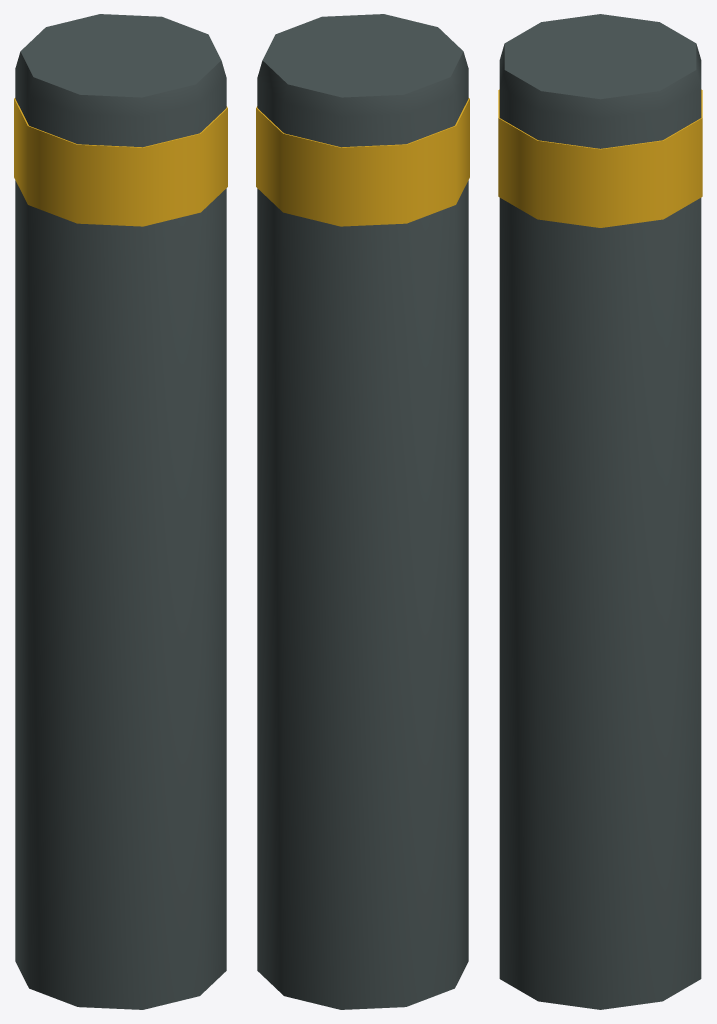
The model's file is sg-bollard.glb.
3 renders of one model, left to right at view 1: azimuth 30°, elevation 25°; view 2: azimuth 150°, elevation 25°; view 3: azimuth 270°, elevation 25°, orthographic.
Parts seen in each view (by area): view 1: steel_post, reflective_collar; view 2: steel_post, reflective_collar; view 3: steel_post, reflective_collar.
Boxes of the visible parts, <box> form: steel_post: <box>15,14,226,1009</box>; reflective_collar: <box>14,98,227,226</box>; steel_post: <box>257,14,468,1009</box>; reflective_collar: <box>256,98,469,226</box>; steel_post: <box>499,14,701,1009</box>; reflective_collar: <box>498,89,702,227</box>.
Bounding box in the file's own units: 0.168 × 0.785 × 0.1598.
